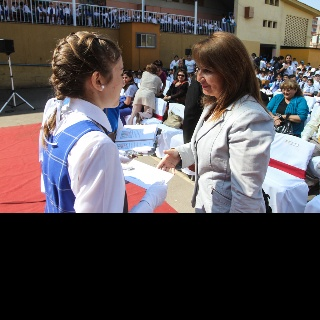without_mask: (102, 54, 126, 107), (196, 62, 224, 95), (282, 86, 295, 99)
